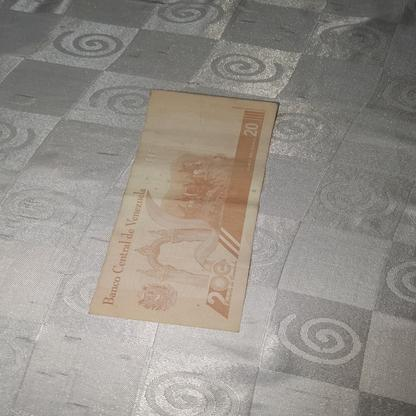twenty-back-vef: (88, 88, 278, 332)
